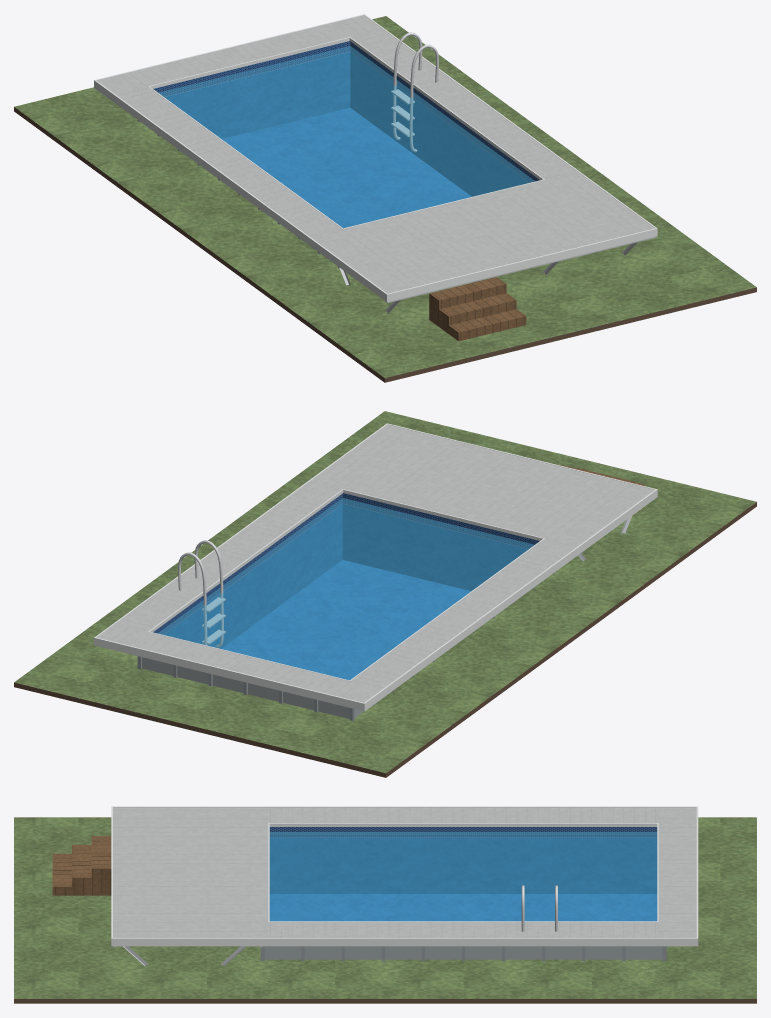
Rendered from kayak-pool-12x20-gray-end-rec-nofence.6db0af1223.glb.
The picture shows the model from 3 angles, top to bottom: view 1: azimuth 30°, elevation 25°; view 2: azimuth 150°, elevation 25°; view 3: azimuth 270°, elevation 25°; orthographic projection.
Visible parts, largest first — view 1: ground, deck, water, liner_wall, liner_floor, fascia, steps, soil, steel, stud; view 2: ground, deck, water, liner_wall, liner_floor, fascia, soil, wall, steel; view 3: ground, deck, water, liner_wall, liner_floor, fascia, wall, soil, steps, upright.
Part boxes in pixels (x1=…): ground: x1=14, y1=16, x2=756, y2=377; deck: x1=97, y1=15, x2=654, y2=293; water: x1=159, y1=46, x2=534, y2=228; liner_wall: x1=153, y1=41, x2=539, y2=196; liner_floor: x1=222, y1=108, x2=471, y2=228; fascia: x1=94, y1=14, x2=657, y2=302; steps: x1=429, y1=277, x2=526, y2=341; soil: x1=14, y1=107, x2=756, y2=382; steel: x1=391, y1=32, x2=438, y2=152; stud: x1=312, y1=237, x2=655, y2=313; ground: x1=14, y1=411, x2=756, y2=772; deck: x1=97, y1=424, x2=654, y2=702; water: x1=158, y1=498, x2=534, y2=680; liner_wall: x1=153, y1=493, x2=539, y2=648; liner_floor: x1=221, y1=560, x2=470, y2=680; fascia: x1=94, y1=423, x2=657, y2=711; soil: x1=14, y1=502, x2=756, y2=777; wall: x1=142, y1=657, x2=363, y2=718; steel: x1=178, y1=540, x2=225, y2=647; ground: x1=14, y1=817, x2=756, y2=998; deck: x1=113, y1=807, x2=696, y2=937; water: x1=269, y1=832, x2=657, y2=921; liner_wall: x1=269, y1=827, x2=657, y2=893; liner_floor: x1=269, y1=894, x2=657, y2=921; fascia: x1=111, y1=806, x2=698, y2=946; wall: x1=264, y1=946, x2=662, y2=959; soil: x1=14, y1=999, x2=756, y2=1003; steps: x1=52, y1=836, x2=111, y2=895; upright: x1=260, y1=946, x2=666, y2=960.
Bounding box in the file's own units: 6.71 × 1.9 × 11.57.
Materials: 12 (5 with a texture image).
